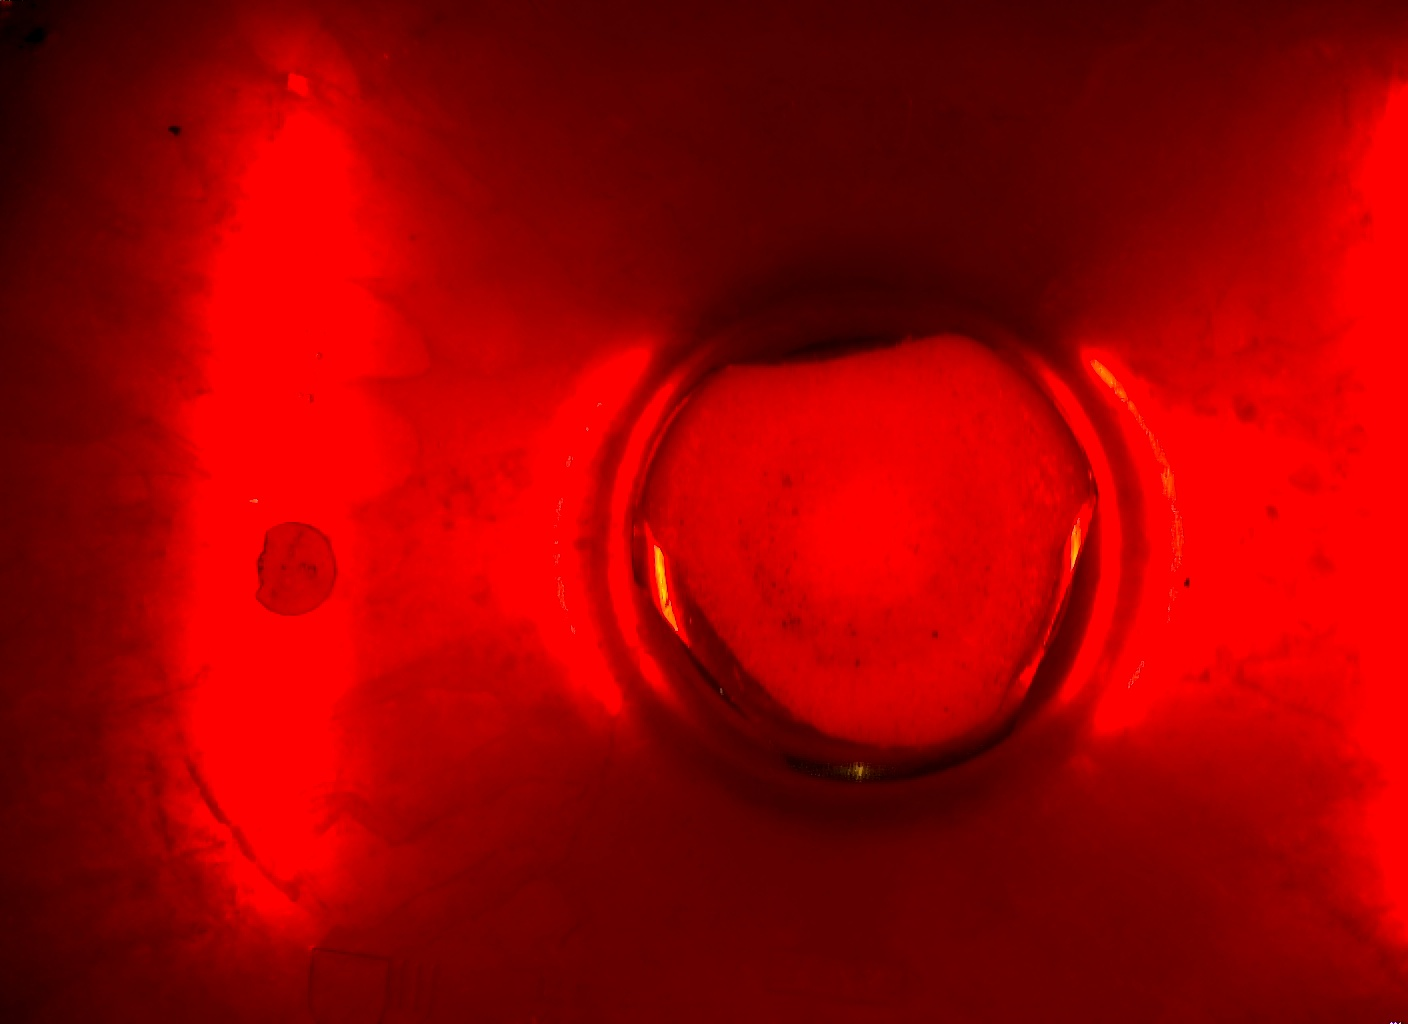shapka: (624, 330, 1099, 764)
